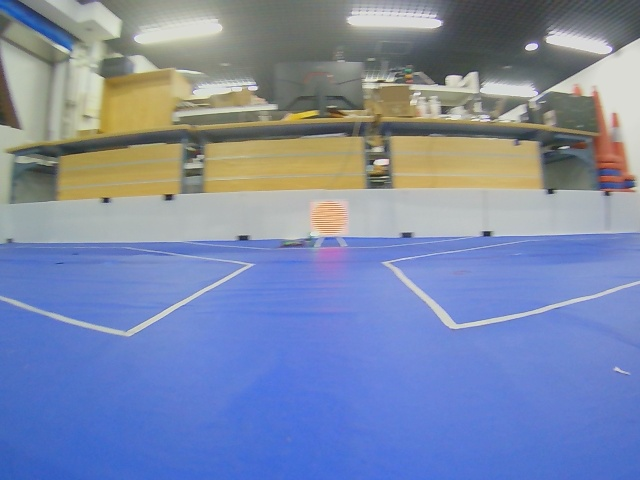red: (311, 201, 348, 237)
